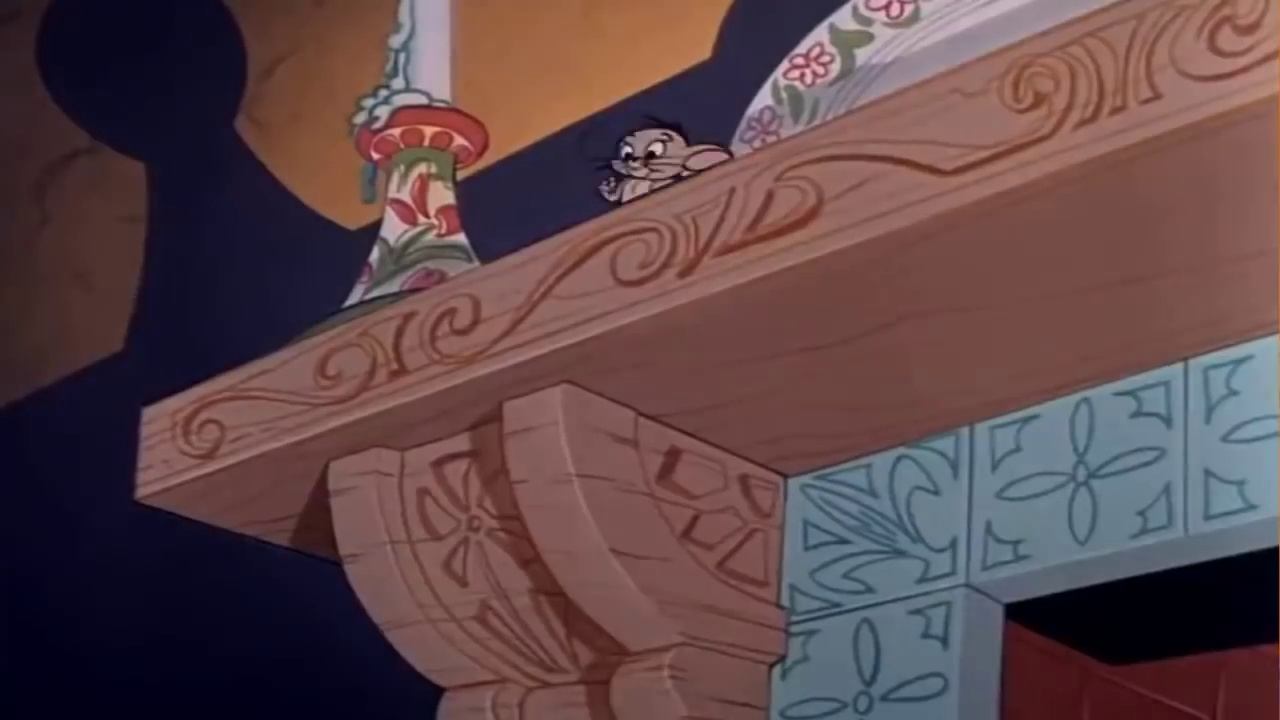face: (614, 129, 680, 178)
